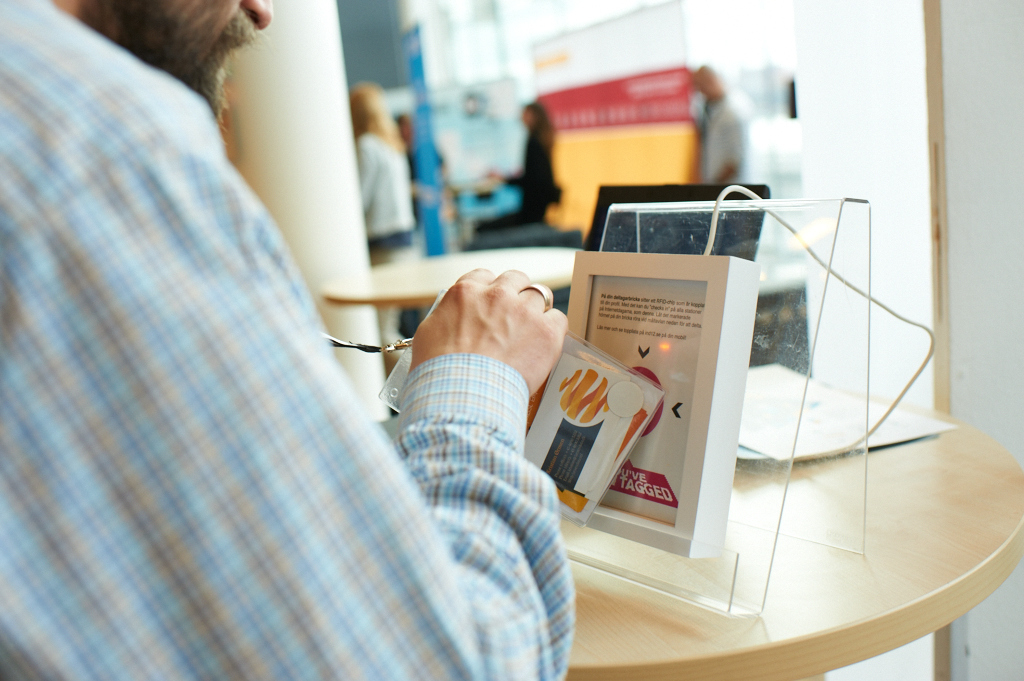Human_hand: (389, 266, 584, 413)
